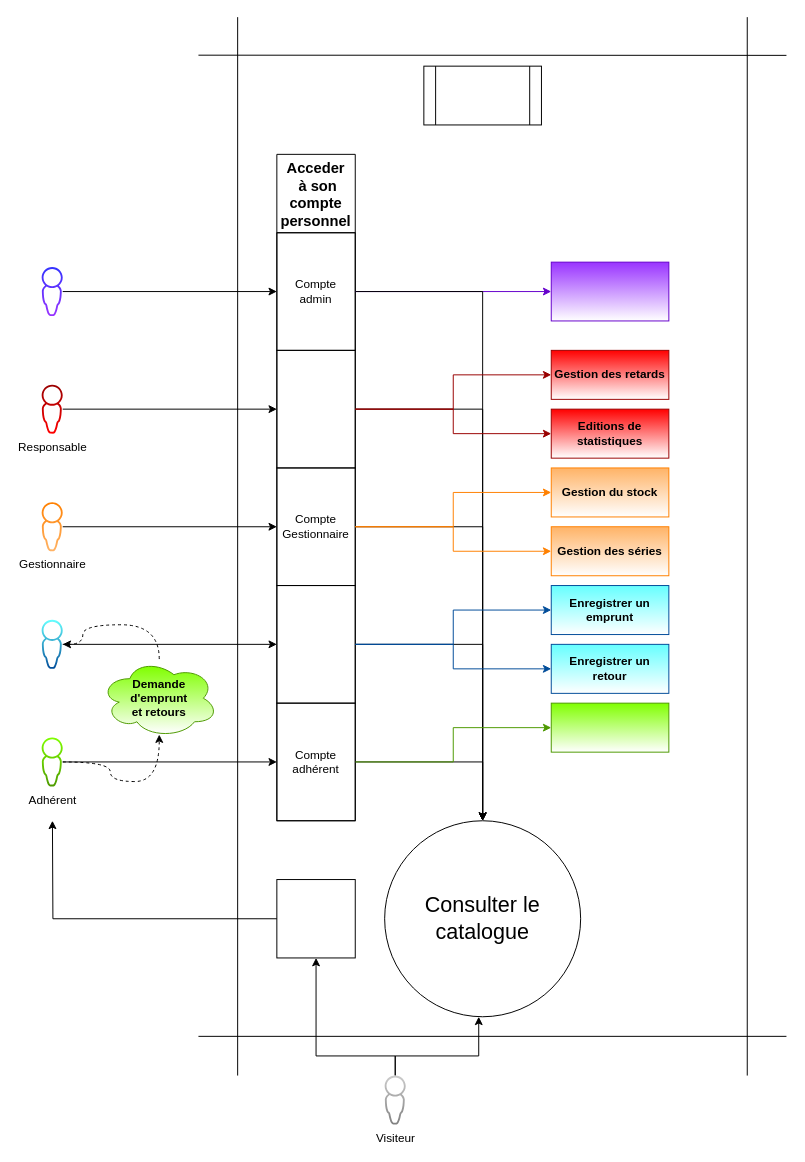
Some shapes in this 805 by 1162 pixel diagram are drawn without their labels. Here are the shapes that lost their labels. From the top down, the centre of each, then its label:
(482,95): System
(51,291): ADMIN
(609,291): Gestion des comptes
(315,408): Compte Responsable
(51,643): Bibliothécaire
(315,644): Compte Bibliothécaire
(609,727): Consulter ses Emprunts
(315,918): Créer un compte Adhérent
